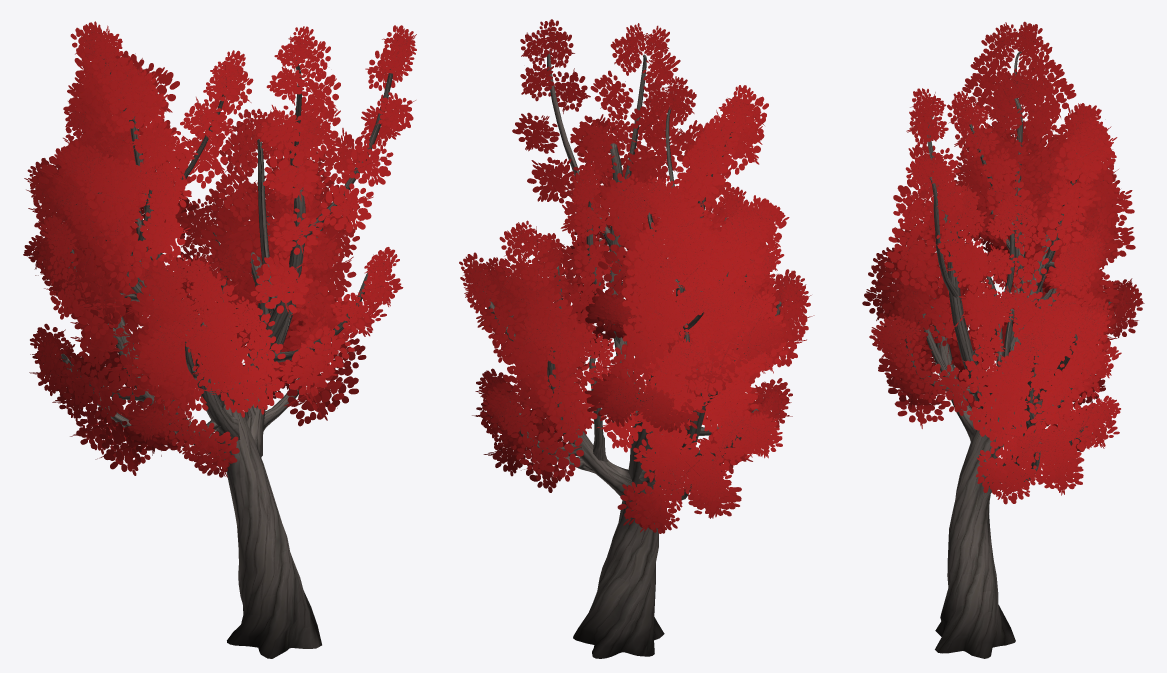
Rendered from TwistedTree_2.glb.
3 views of the same model, side by side, from view 1: azimuth 30°, elevation 25°; view 2: azimuth 150°, elevation 25°; view 3: azimuth 270°, elevation 25° (orthographic). The views are drawn at different scales.
Visible parts, largest first — view 1: TwistedTree_2; view 2: TwistedTree_2; view 3: TwistedTree_2.
Boxes of the visible parts, box(x1,y1,x2,y2) form: TwistedTree_2: box(23, 21, 416, 658); TwistedTree_2: box(459, 19, 814, 658); TwistedTree_2: box(862, 21, 1144, 658).
Bounding box in the file's own units: 10.56 × 18.95 × 9.2.
2 materials, 2 textured.
